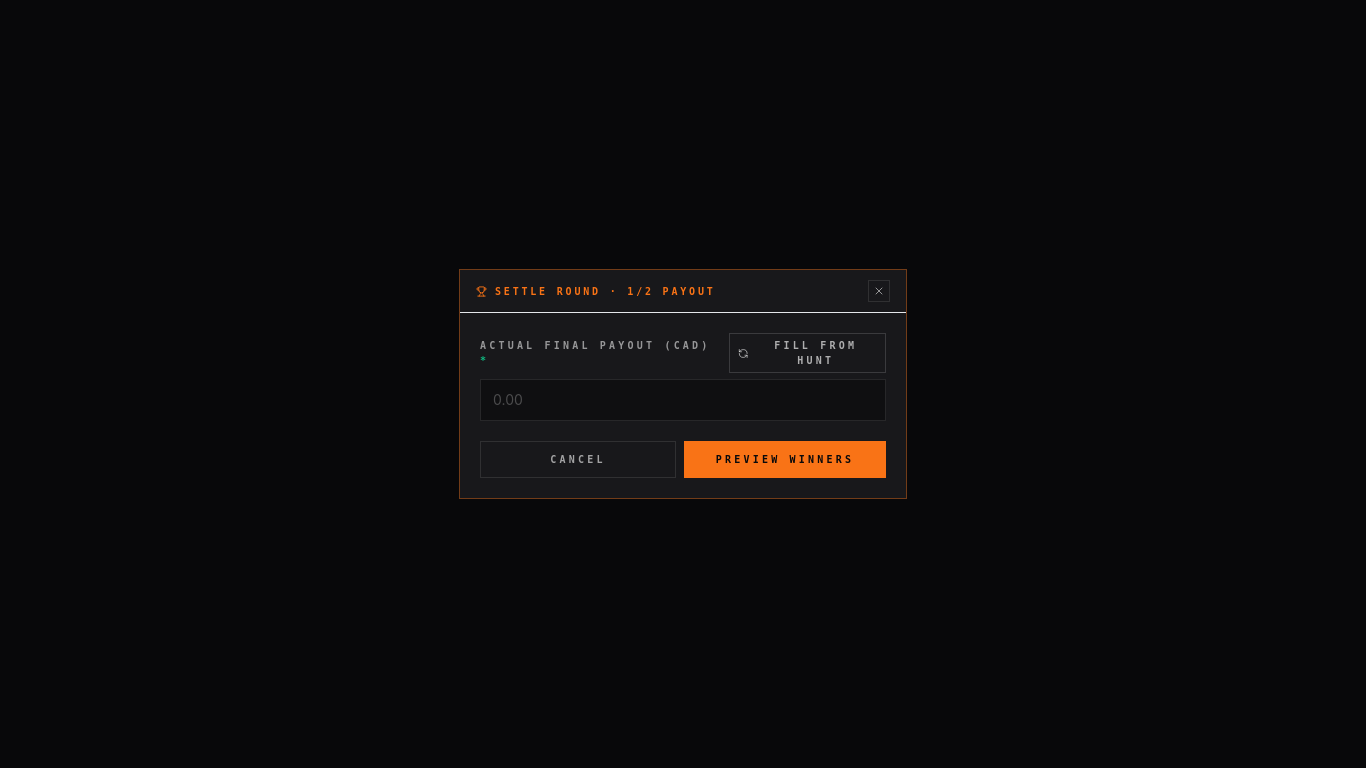
Test case: Fill from hunt prefills the final payout
The image size is (1366, 768).
Click the button "Fill from hunt" at (808, 353), box [729,333,886,373]
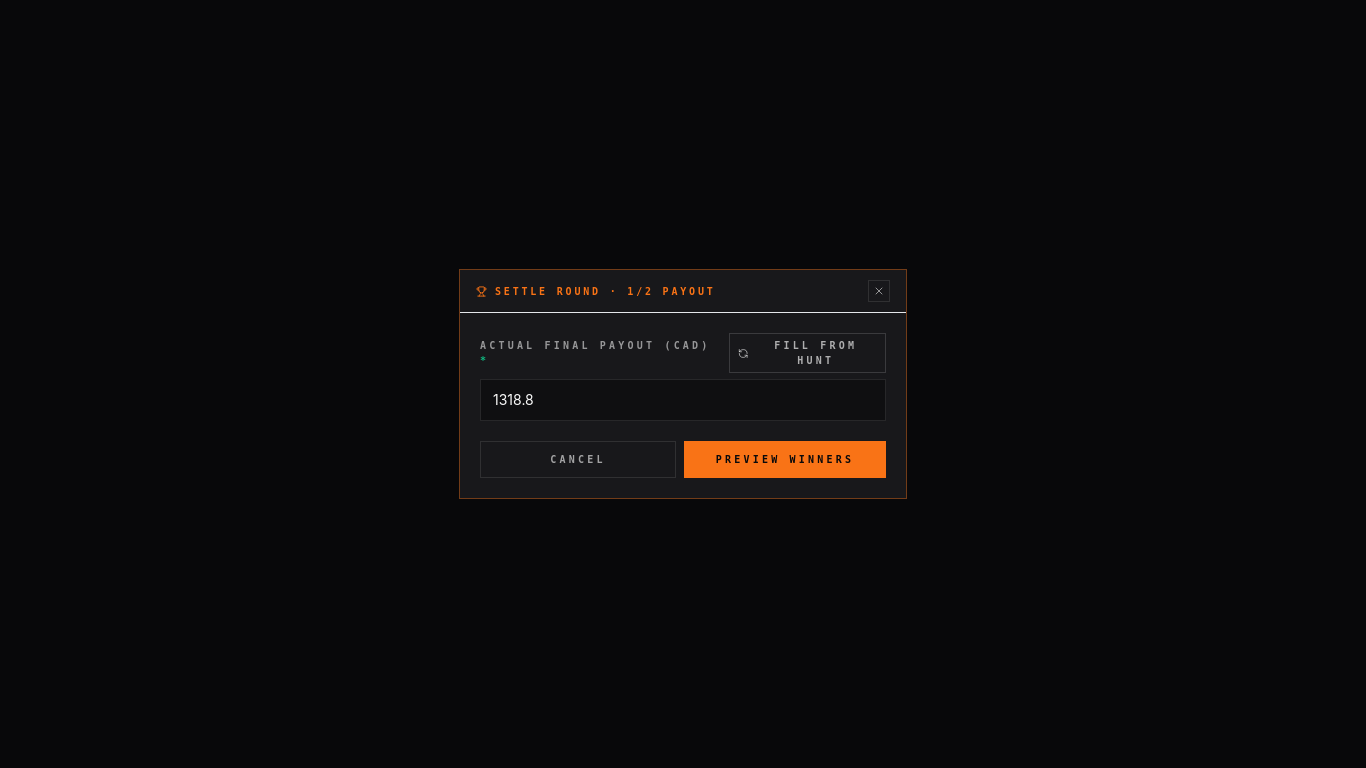
Check: the number field labelled "Actual final payout (CAD) *" holds "1318.8", box [480,379,886,421]
